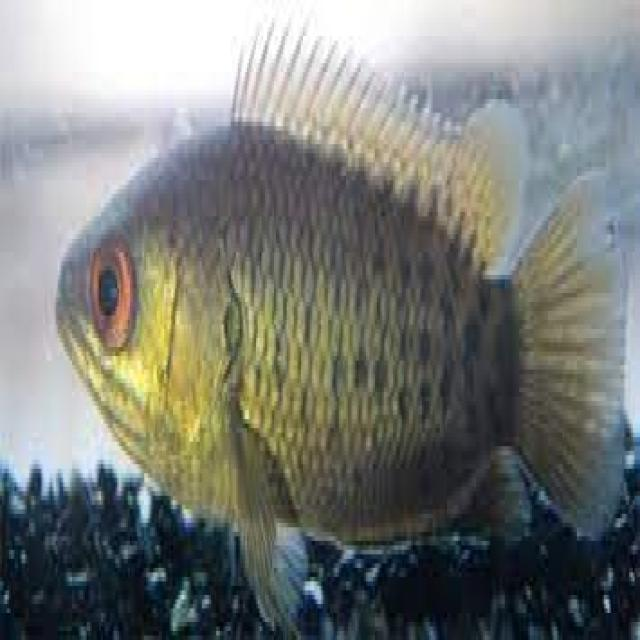Climbing-Perch: (46, 15, 630, 565)
